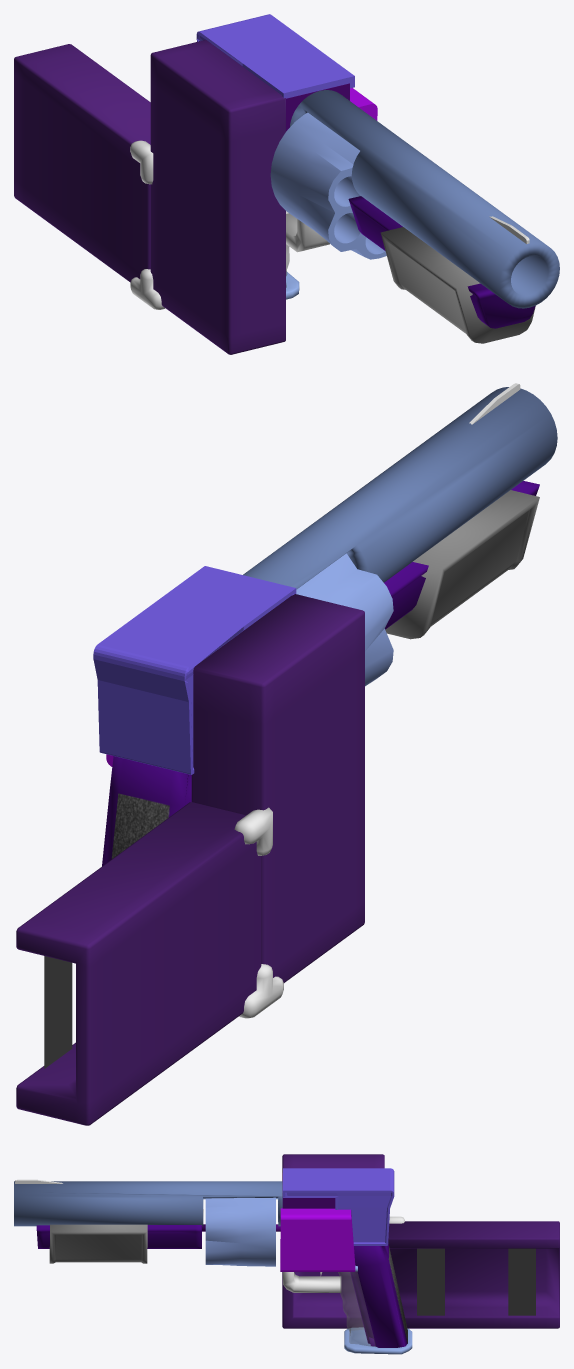
File: FinalShottyVolver.glb
The picture shows the model from 3 angles, top to bottom: view 1: azimuth 30°, elevation 25°; view 2: azimuth 150°, elevation 25°; view 3: azimuth 270°, elevation 25°; orthographic projection. The views are drawn at different scales.
Parts seen in each view (by area): view 1: FrameSection, Cylrinder; view 2: FrameSection, Cylrinder; view 3: FrameSection, Cylrinder.
Part boxes in pixels (x1,y1,x2,y2): FrameSection: (14, 14, 559, 354); Cylrinder: (270, 112, 386, 259); FrameSection: (16, 383, 557, 1125); Cylrinder: (296, 553, 393, 686); FrameSection: (14, 1154, 559, 1354); Cylrinder: (205, 1197, 275, 1266).
Bounding box in the file's own units: 5.29 × 8.44 × 25.54.
Materials: 15 (1 with a texture image).
